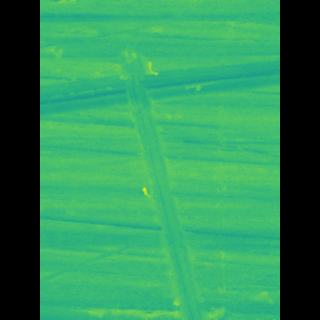Loch: (126, 46, 203, 319), (69, 55, 251, 121), (87, 298, 227, 319)
